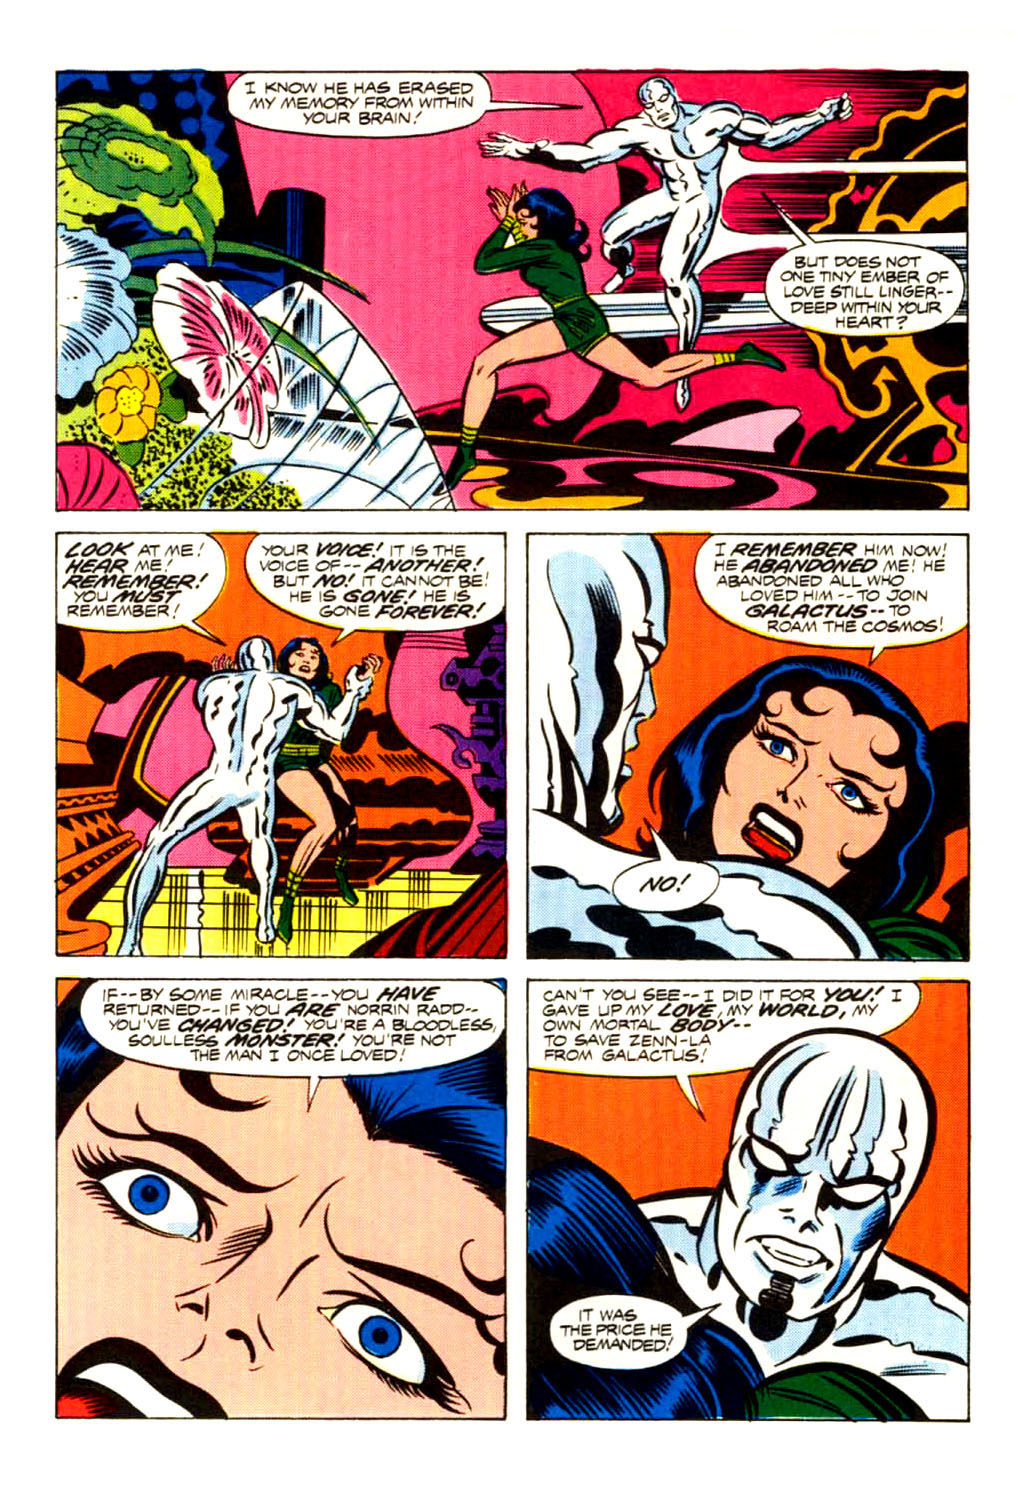Baloon: (81, 983, 504, 1085), (522, 980, 929, 1078), (697, 534, 971, 655), (248, 534, 507, 641), (762, 241, 969, 343), (53, 529, 227, 641), (225, 71, 497, 134), (550, 1292, 718, 1371), (603, 841, 720, 914)
Vignetta: (53, 71, 967, 513), (53, 978, 507, 1425), (529, 983, 971, 1427), (525, 529, 974, 959), (55, 529, 504, 957)
